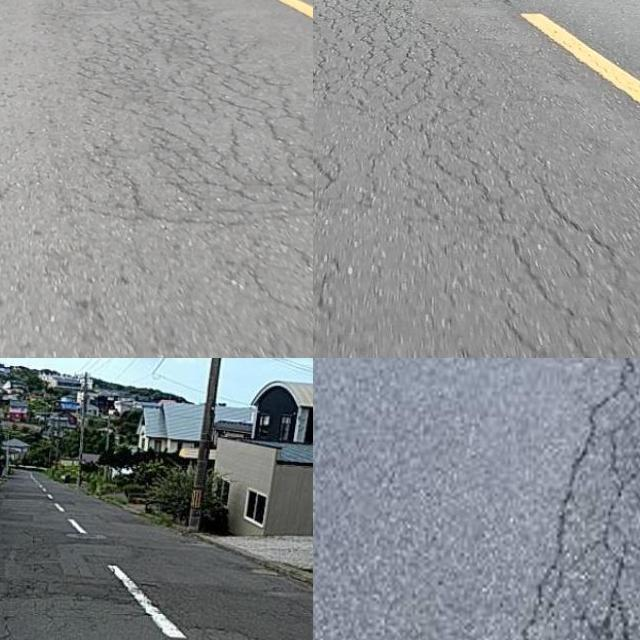Retak Buaya: (313, 0, 640, 358), (61, 0, 313, 231), (513, 358, 640, 640)
